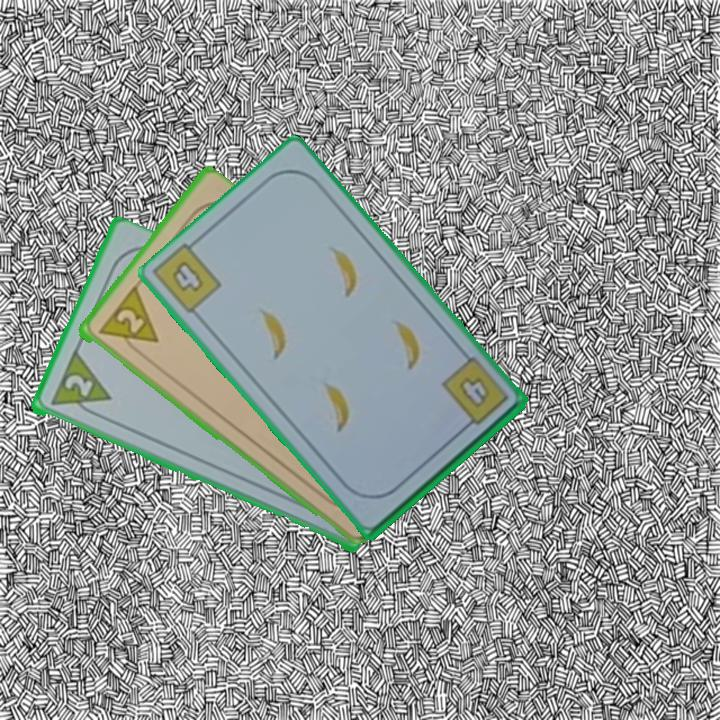2p: (93, 284, 161, 360), (60, 370, 96, 401)
4b: (438, 356, 512, 435), (167, 256, 206, 295)
